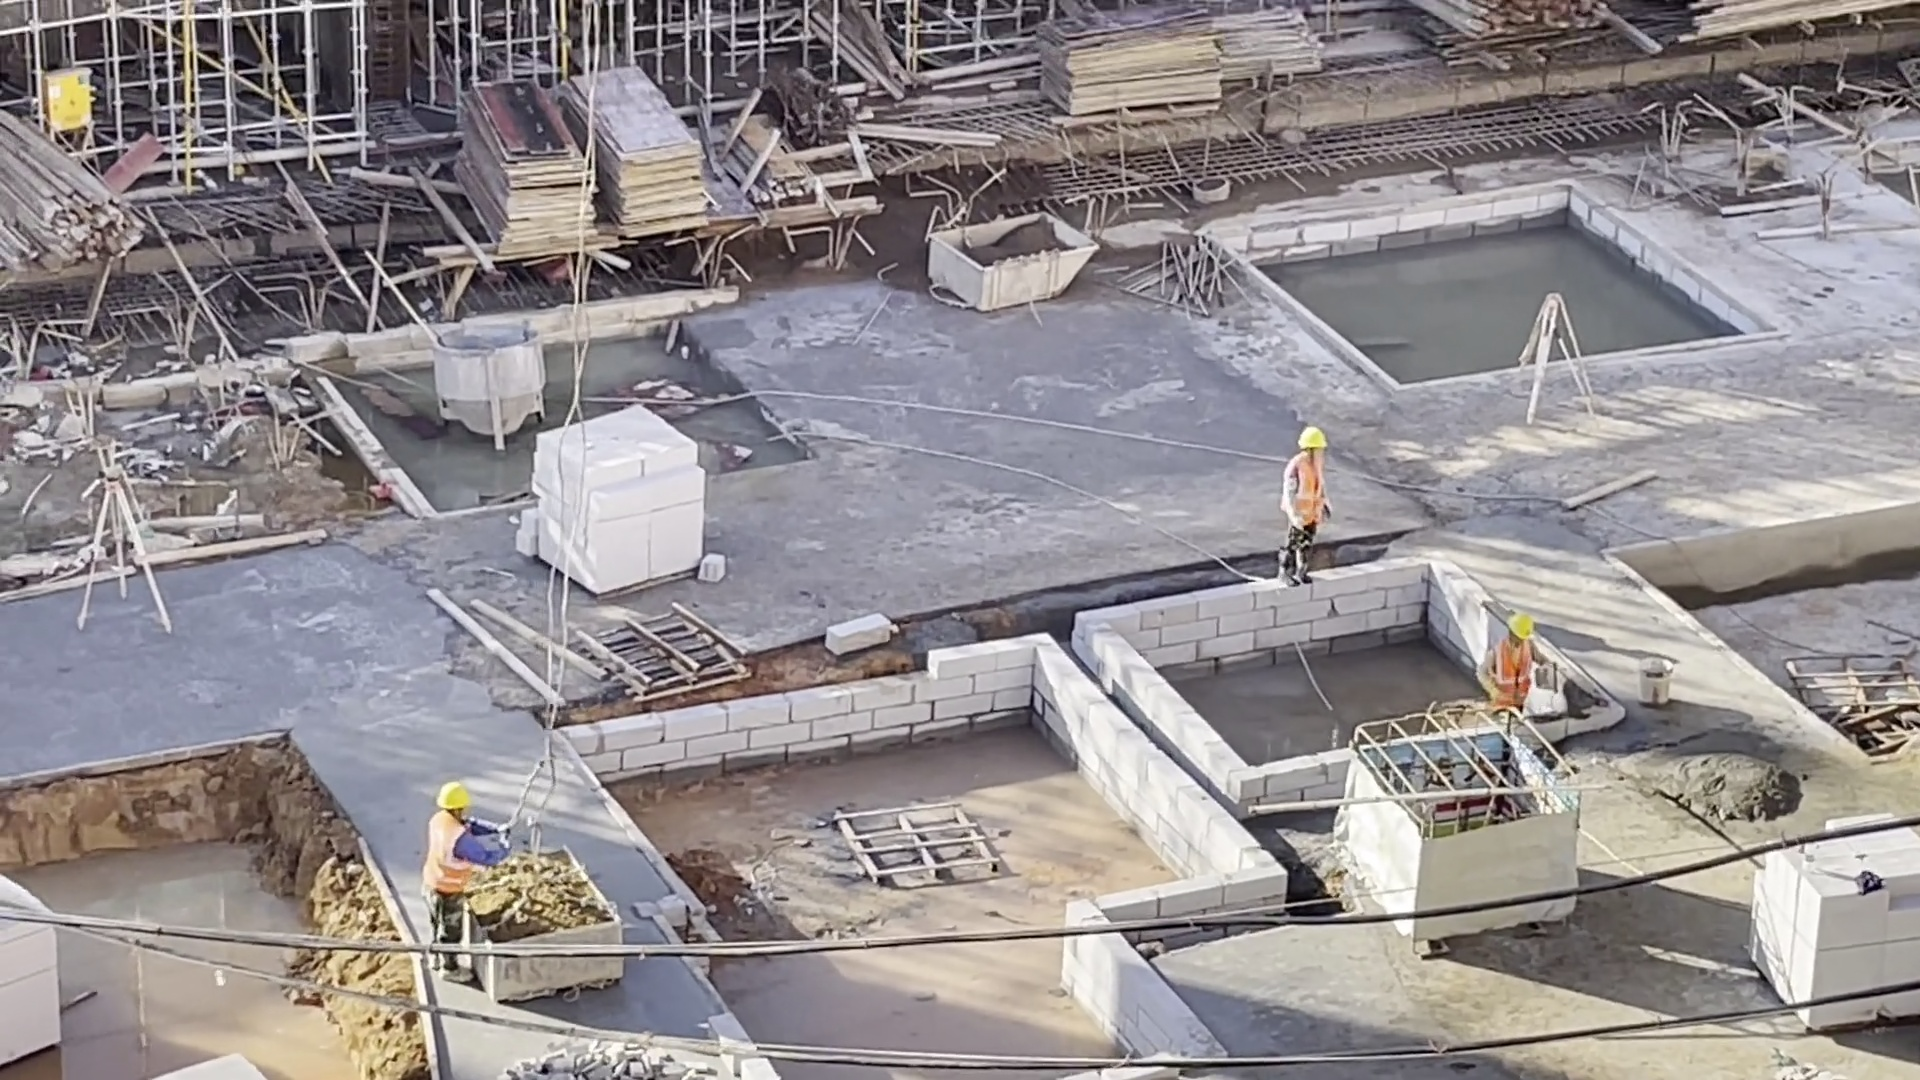board: (566, 57, 715, 246), (454, 72, 599, 265), (1034, 8, 1228, 128)
brick: (520, 405, 715, 593), (1746, 854, 1920, 991)
ebox: (40, 65, 97, 138)
helmet: (435, 784, 473, 812), (1295, 425, 1332, 452), (1506, 611, 1536, 642)
hopper: (922, 212, 1107, 311), (428, 319, 541, 453)
person: (421, 779, 516, 941), (1469, 610, 1562, 709), (1281, 423, 1333, 585)
vest: (425, 812, 473, 900), (1285, 454, 1327, 526), (1487, 640, 1534, 705)
wood: (8, 106, 143, 287), (1396, 1, 1607, 53)
